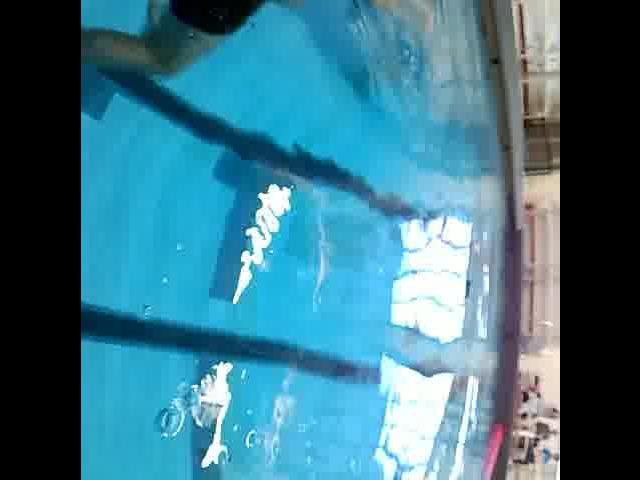CamMount: (456, 274, 474, 302)
